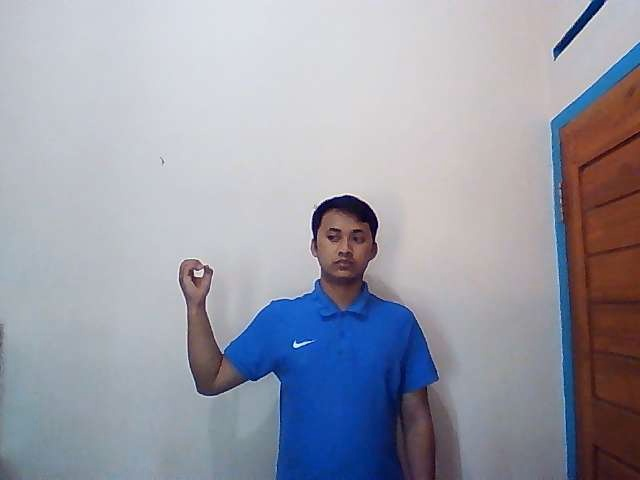O: (175, 258, 214, 303)
